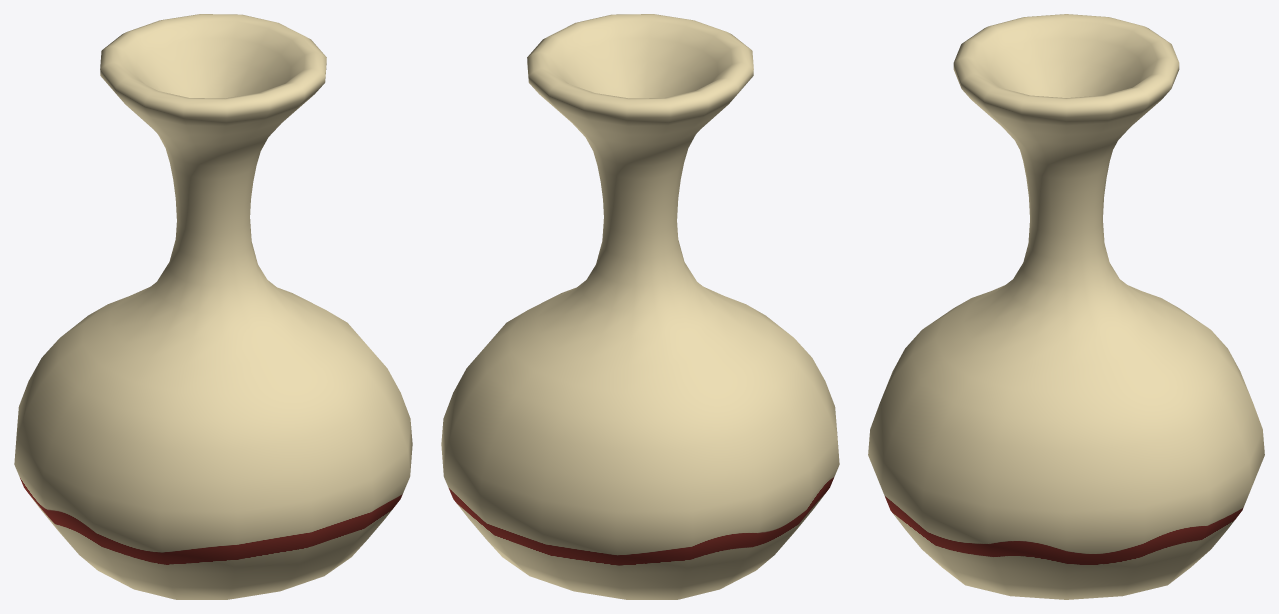
Rendered from WhiteVaseM.fbx.
3 views of the same model, side by side, from view 1: azimuth 30°, elevation 25°; view 2: azimuth 150°, elevation 25°; view 3: azimuth 270°, elevation 25° (orthographic).
Parts seen in each view (by area): view 1: Cube.002; view 2: Cube.002; view 3: Cube.002.
Part boxes in pixels (<box>): Cube.002: <box>14,14,412,599</box>; Cube.002: <box>441,14,839,599</box>; Cube.002: <box>868,14,1264,599</box>.
Size of the model in its own units: 176 by 238 by 176.
